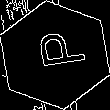P_W: (26, 33, 84, 77)
